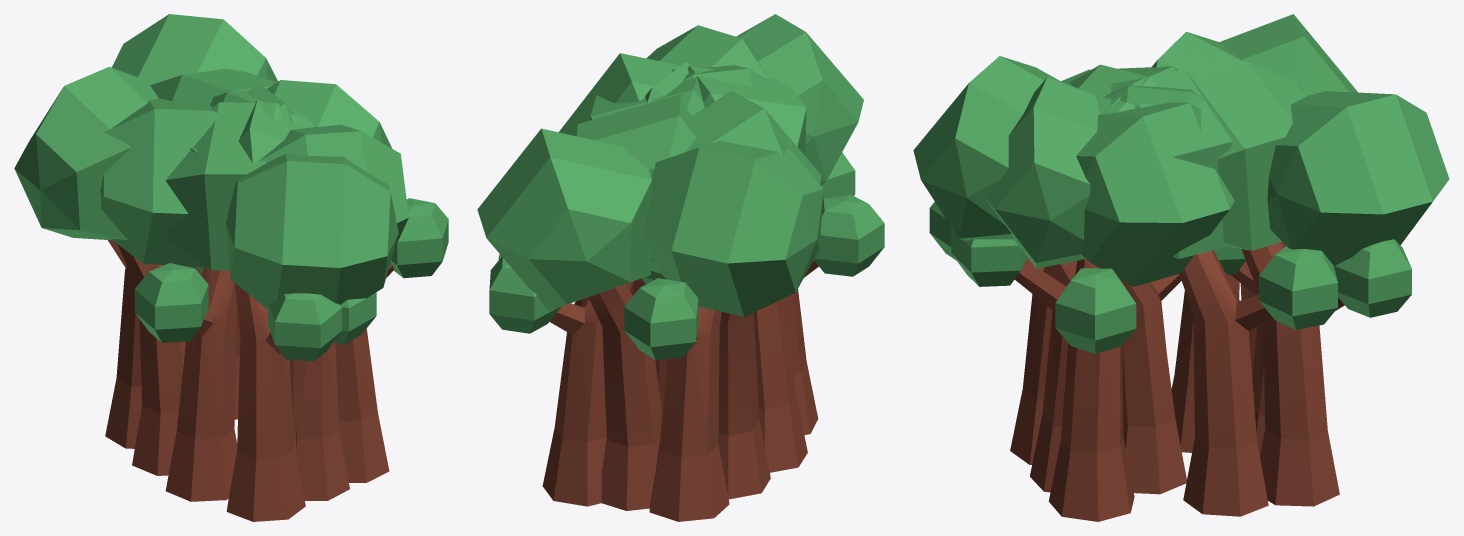
3 renders of one model, left to right at view 1: azimuth 30°, elevation 25°; view 2: azimuth 150°, elevation 25°; view 3: azimuth 270°, elevation 25°, orthographic. The views are drawn at different scales.
Visible parts, largest first — view 1: pCylinder52; view 2: pCylinder52; view 3: pCylinder52.
Part boxes in pixels (<box>): pCylinder52: <box>14,14,448,521</box>; pCylinder52: <box>477,14,884,521</box>; pCylinder52: <box>913,14,1449,521</box>.
Size of the model in its own units: 1212 by 1260 by 1562.
